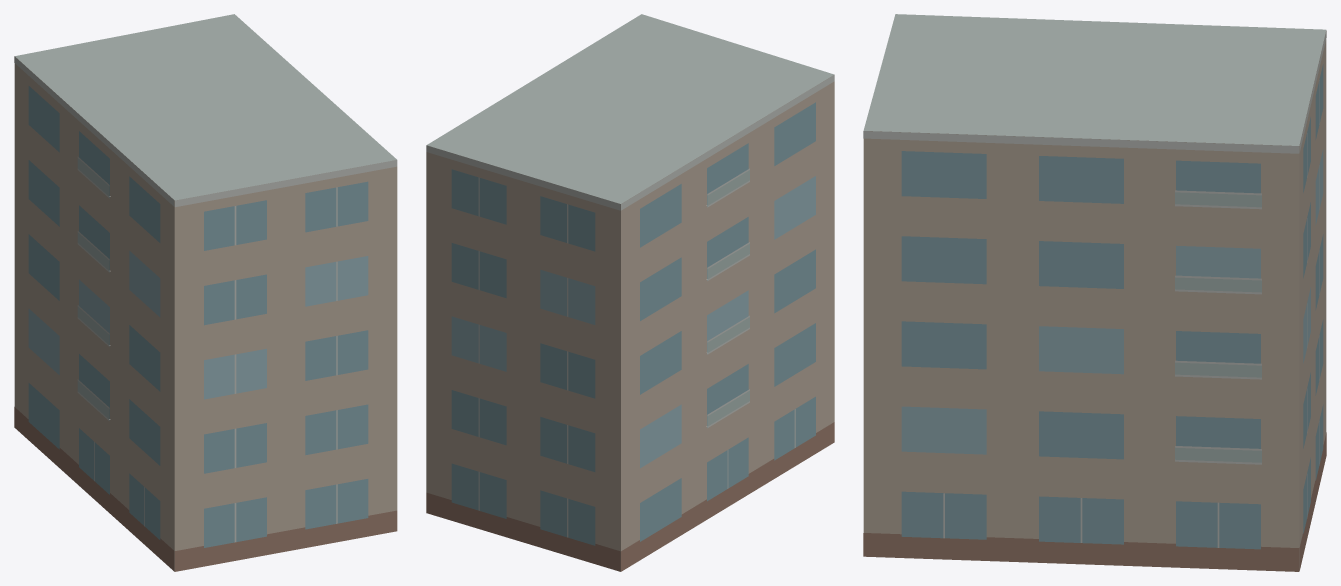
Rendered from survey-upis-32760161.glb.
3 renders of one model, left to right at view 1: azimuth 30°, elevation 25°; view 2: azimuth 150°, elevation 25°; view 3: azimuth 270°, elevation 25°, orthographic. The views are drawn at different scales.
Visible parts, largest first — view 1: survey-upis-32760161.tmp; view 2: survey-upis-32760161.tmp; view 3: survey-upis-32760161.tmp.
Boxes of the visible parts, box(x1,y1,x2,y2) form: survey-upis-32760161.tmp: box(14, 14, 397, 571); survey-upis-32760161.tmp: box(426, 14, 834, 571); survey-upis-32760161.tmp: box(863, 14, 1326, 571).
Size of the model in its own units: 8.92 by 13.4 by 13.22.
